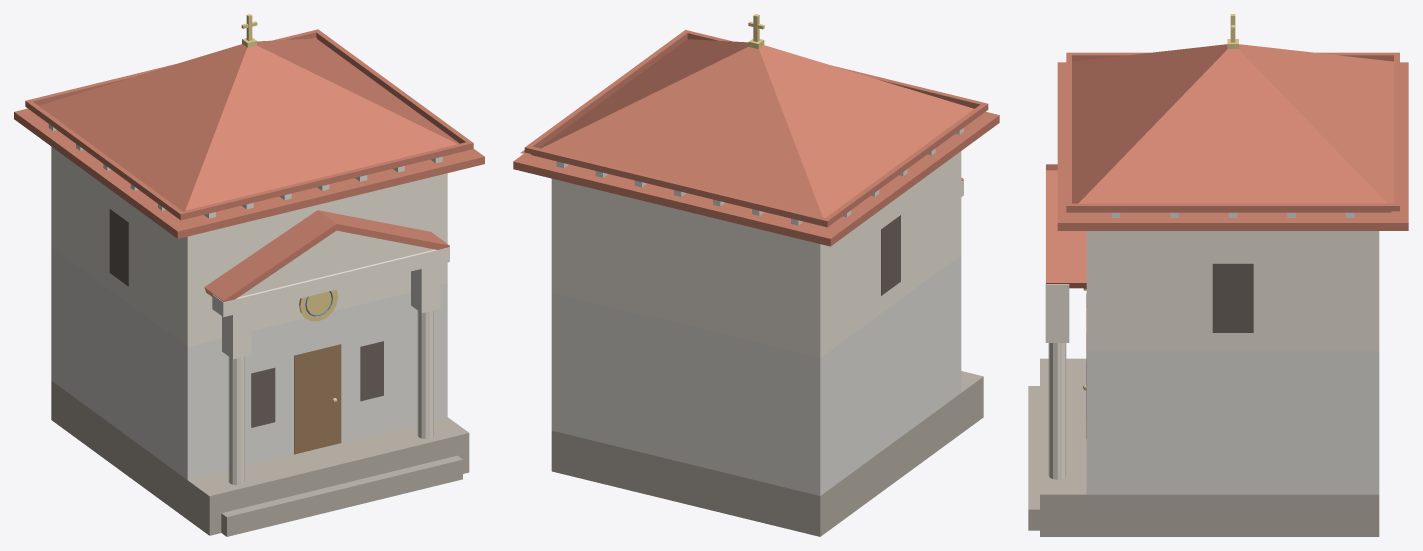
Rendered from Housing_Byzantine_02.fbx.
3 renders of one model, left to right at view 1: azimuth 30°, elevation 25°; view 2: azimuth 150°, elevation 25°; view 3: azimuth 270°, elevation 25°, orthographic. The views are drawn at different scales.
Visible parts, largest first — view 1: Housing_Byzantine_02_Mesh; view 2: Housing_Byzantine_02_Mesh; view 3: Housing_Byzantine_02_Mesh.
Part boxes in pixels (x1=…): Housing_Byzantine_02_Mesh: x1=14, y1=14, x2=484, y2=536; Housing_Byzantine_02_Mesh: x1=513, y1=14, x2=999, y2=536; Housing_Byzantine_02_Mesh: x1=1028, y1=14, x2=1408, y2=536.
Bounding box in the file's own units: 6.5 × 8.56 × 6.5.
